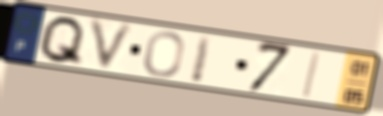7: (245, 40, 295, 96)
I: (188, 33, 215, 85), (299, 50, 325, 101)
O: (141, 30, 187, 79)
Q: (36, 14, 88, 68)
V: (87, 16, 139, 75)
